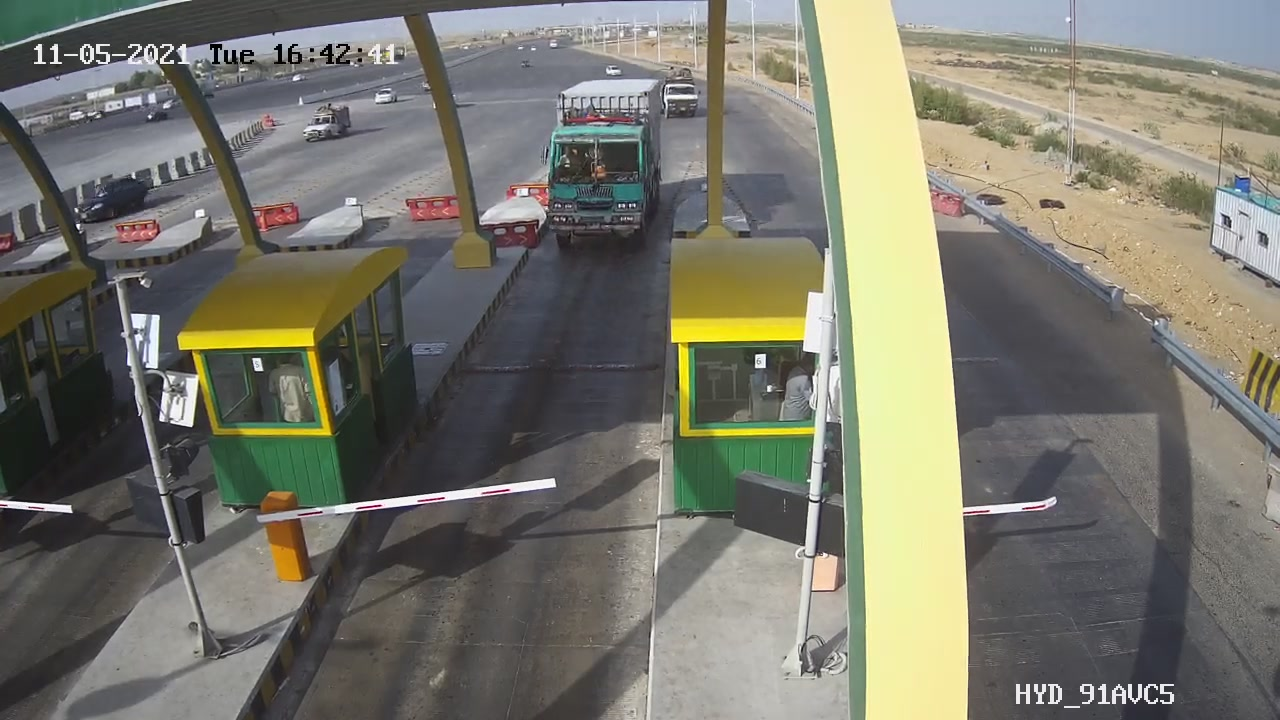F6: (524, 66, 689, 264)
